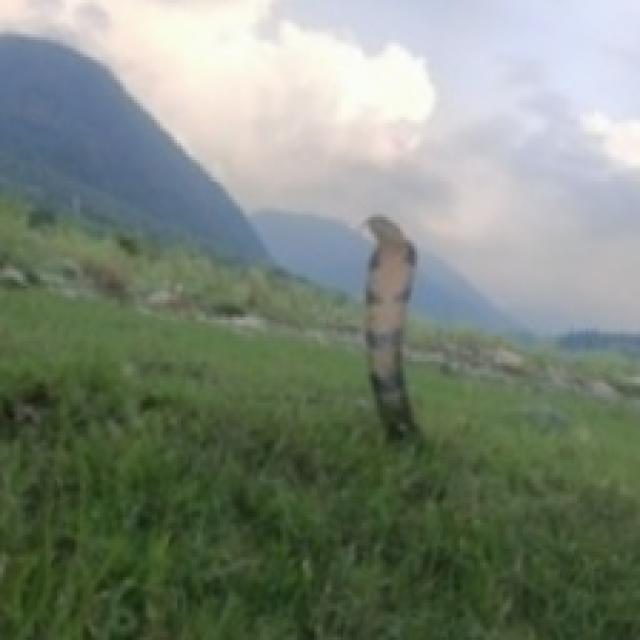king cobra: (366, 217, 414, 437)
